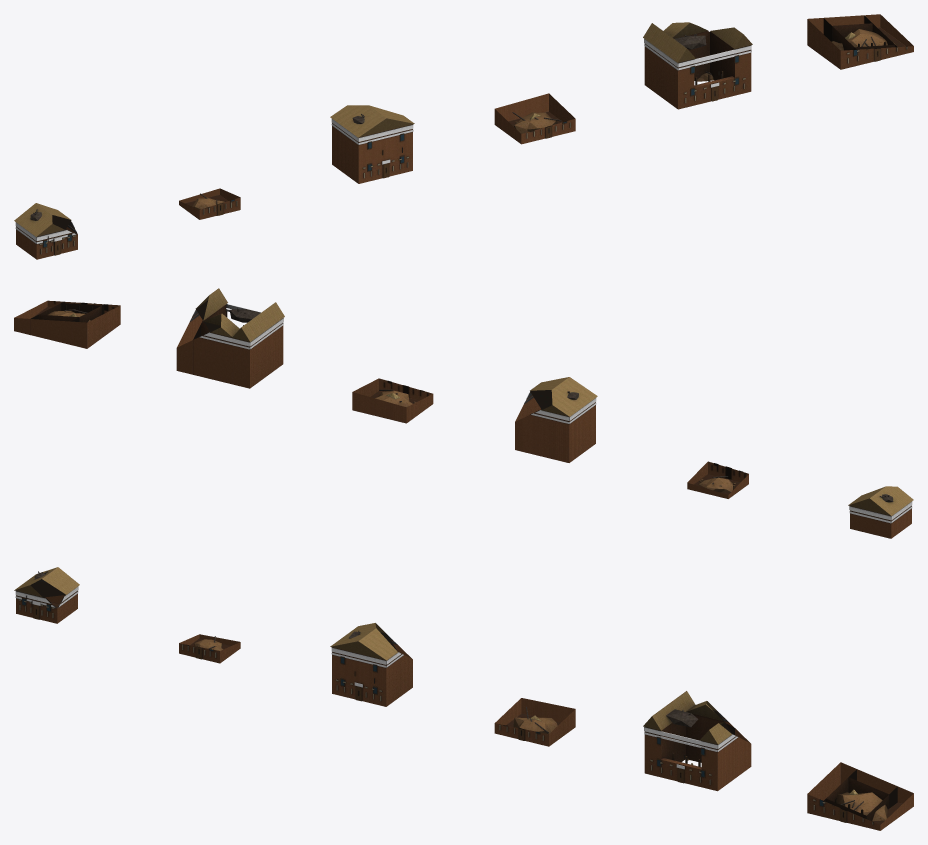
The model's file is kingdoms-westafrica-houses-damage.glb.
The picture shows the model from 3 angles, top to bottom: view 1: azimuth 30°, elevation 25°; view 2: azimuth 150°, elevation 25°; view 3: azimuth 330°, elevation 25°; orthographic projection.
Parts seen in each view (by area): view 1: LOD0.004, LOD0.002, LOD0.005, LOD0.003, LOD0, LOD0.001; view 2: LOD0.004, LOD0.002, LOD0.005, LOD0, LOD0.003, LOD0.001; view 3: LOD0.004, LOD0.002, LOD0.005, LOD0.003, LOD0, LOD0.001.
Boxes of the visible parts, box(x1,y1,x2,y2) form: LOD0.004: box(643, 22, 752, 109); LOD0.002: box(330, 105, 414, 183); LOD0.005: box(807, 14, 913, 69); LOD0.003: box(494, 93, 575, 144); LOD0: box(14, 203, 77, 259); LOD0.001: box(179, 188, 240, 219); LOD0.004: box(176, 288, 284, 388); LOD0.002: box(515, 377, 597, 462); LOD0.005: box(14, 300, 120, 348); LOD0: box(848, 486, 913, 538); LOD0.003: box(352, 378, 433, 423); LOD0.001: box(687, 461, 748, 498); LOD0.004: box(643, 691, 751, 791); LOD0.002: box(330, 623, 412, 706); LOD0.005: box(807, 762, 913, 830); LOD0.003: box(494, 698, 575, 746); LOD0: box(14, 567, 79, 623); LOD0.001: box(179, 634, 240, 663).
Size of what is drawn, in the model's own units: 16.08 by 1.06 by 1.11.
Materials: 2 (2 with a texture image).
